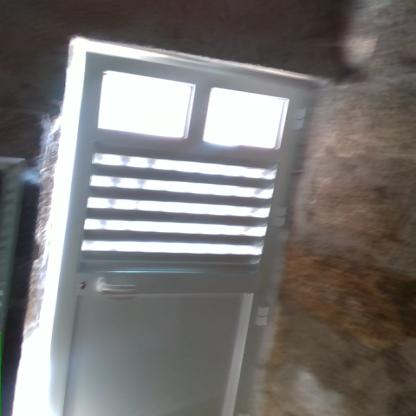closed: (48, 46, 325, 416)
